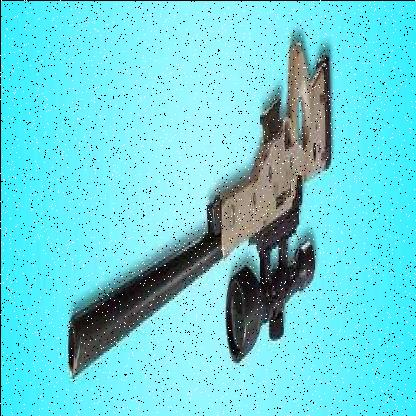rifle: (54, 12, 340, 416)
